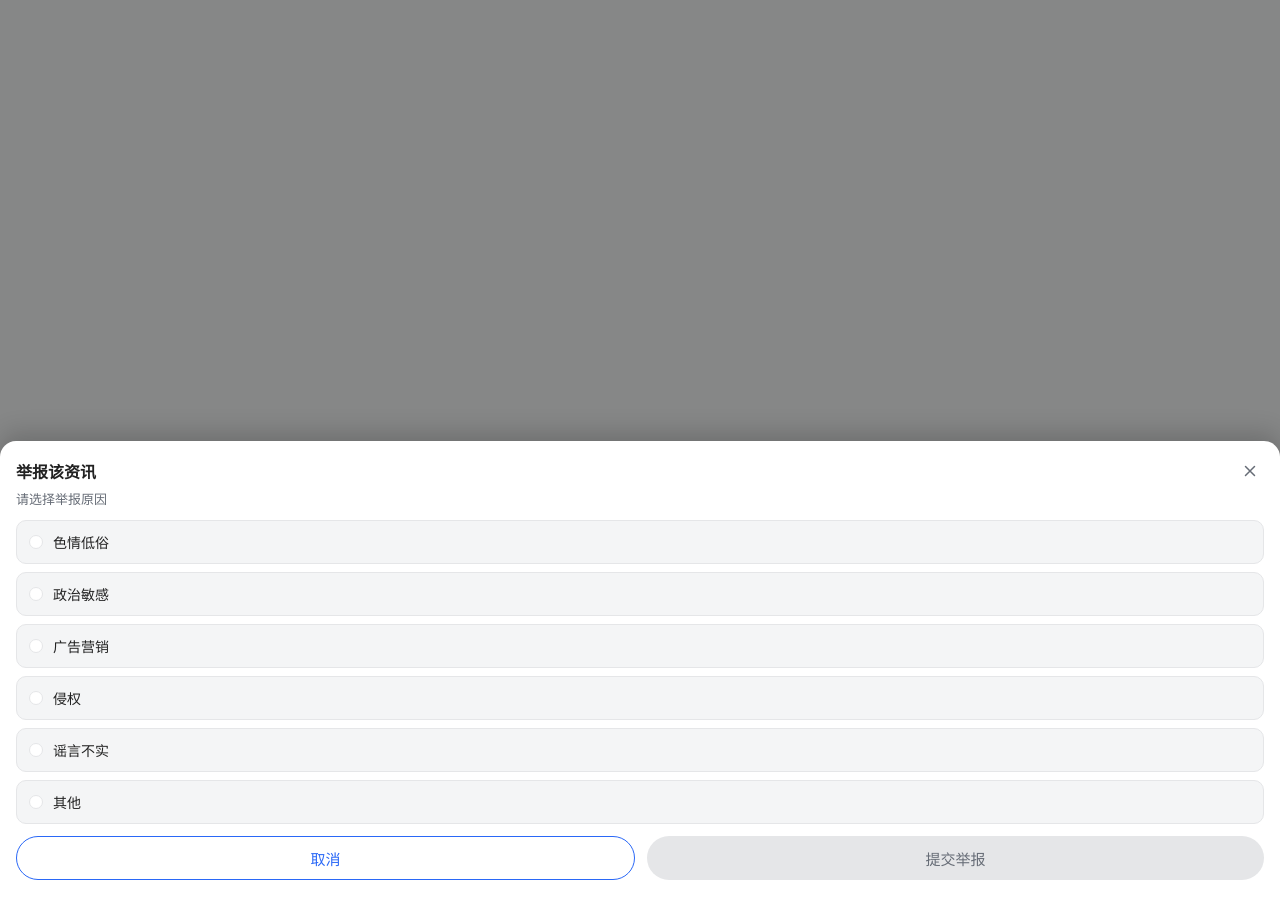
Test case: components/ReportDialog 举报分类弹窗 › 选中理由后提交：按 (类型, 目标 id, 理由) 透传并显示成功态
Click the radio button with class "reason" showing "广告营销". click: (81, 646)
box: [16,624,1264,668]
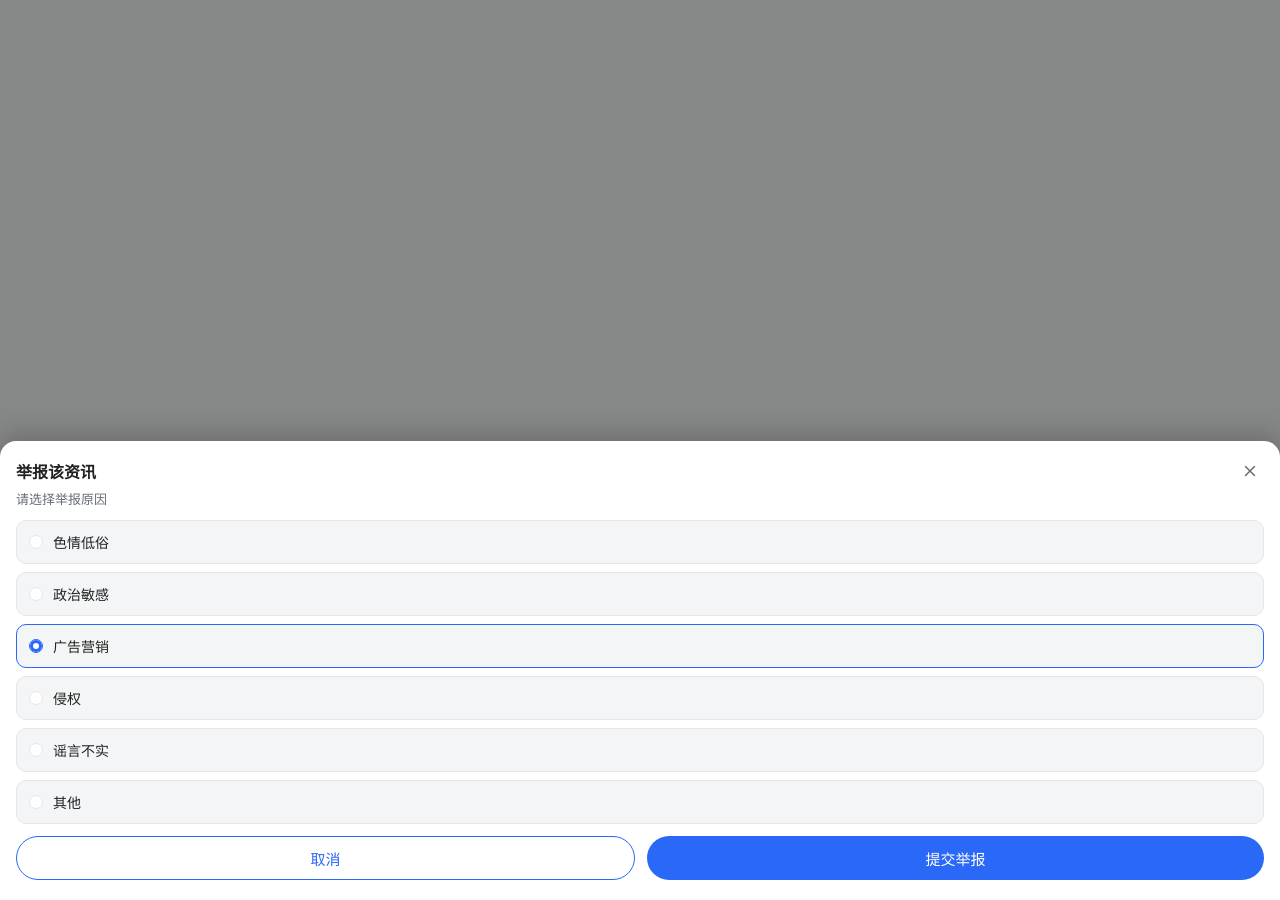
Click the button "提交举报". click: (956, 858)
box: [647,836,1264,880]
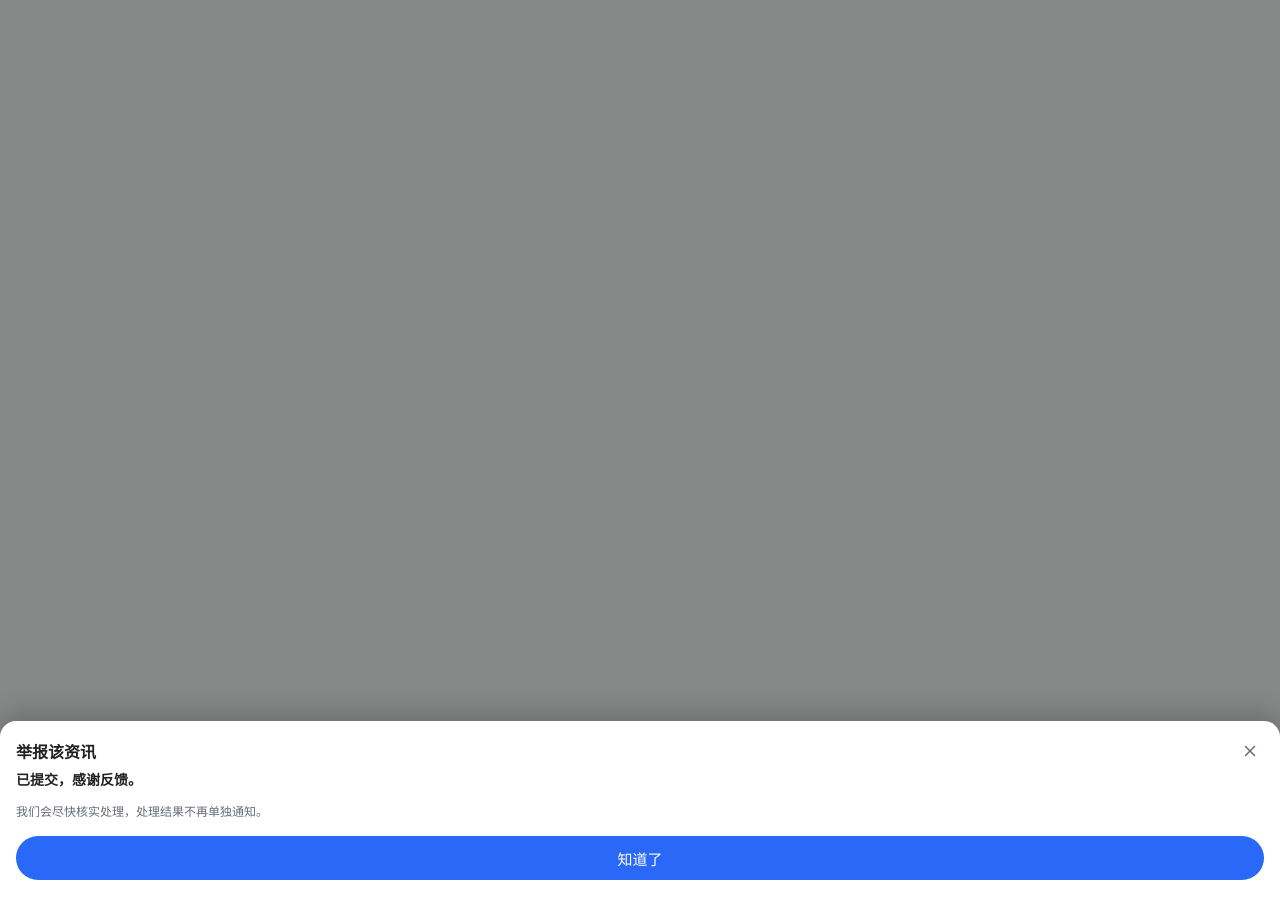
Now the text "已提交，感谢反馈" is shown, box [16,769,142,789]
